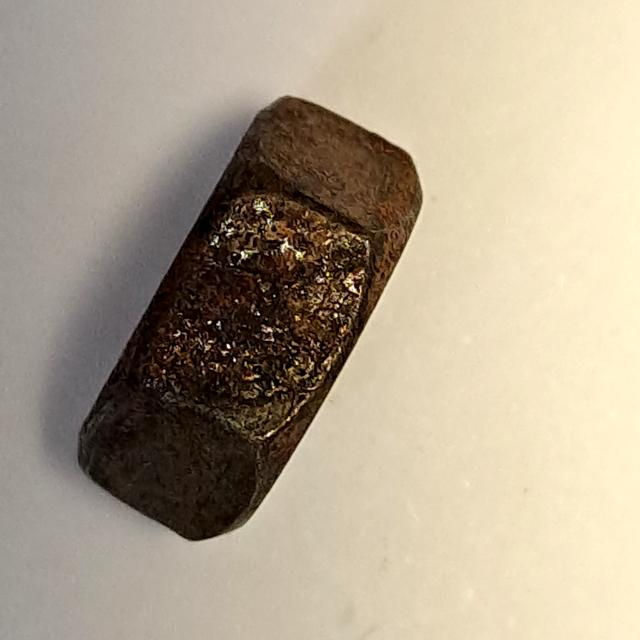Side_Rust: (60, 85, 431, 550)
